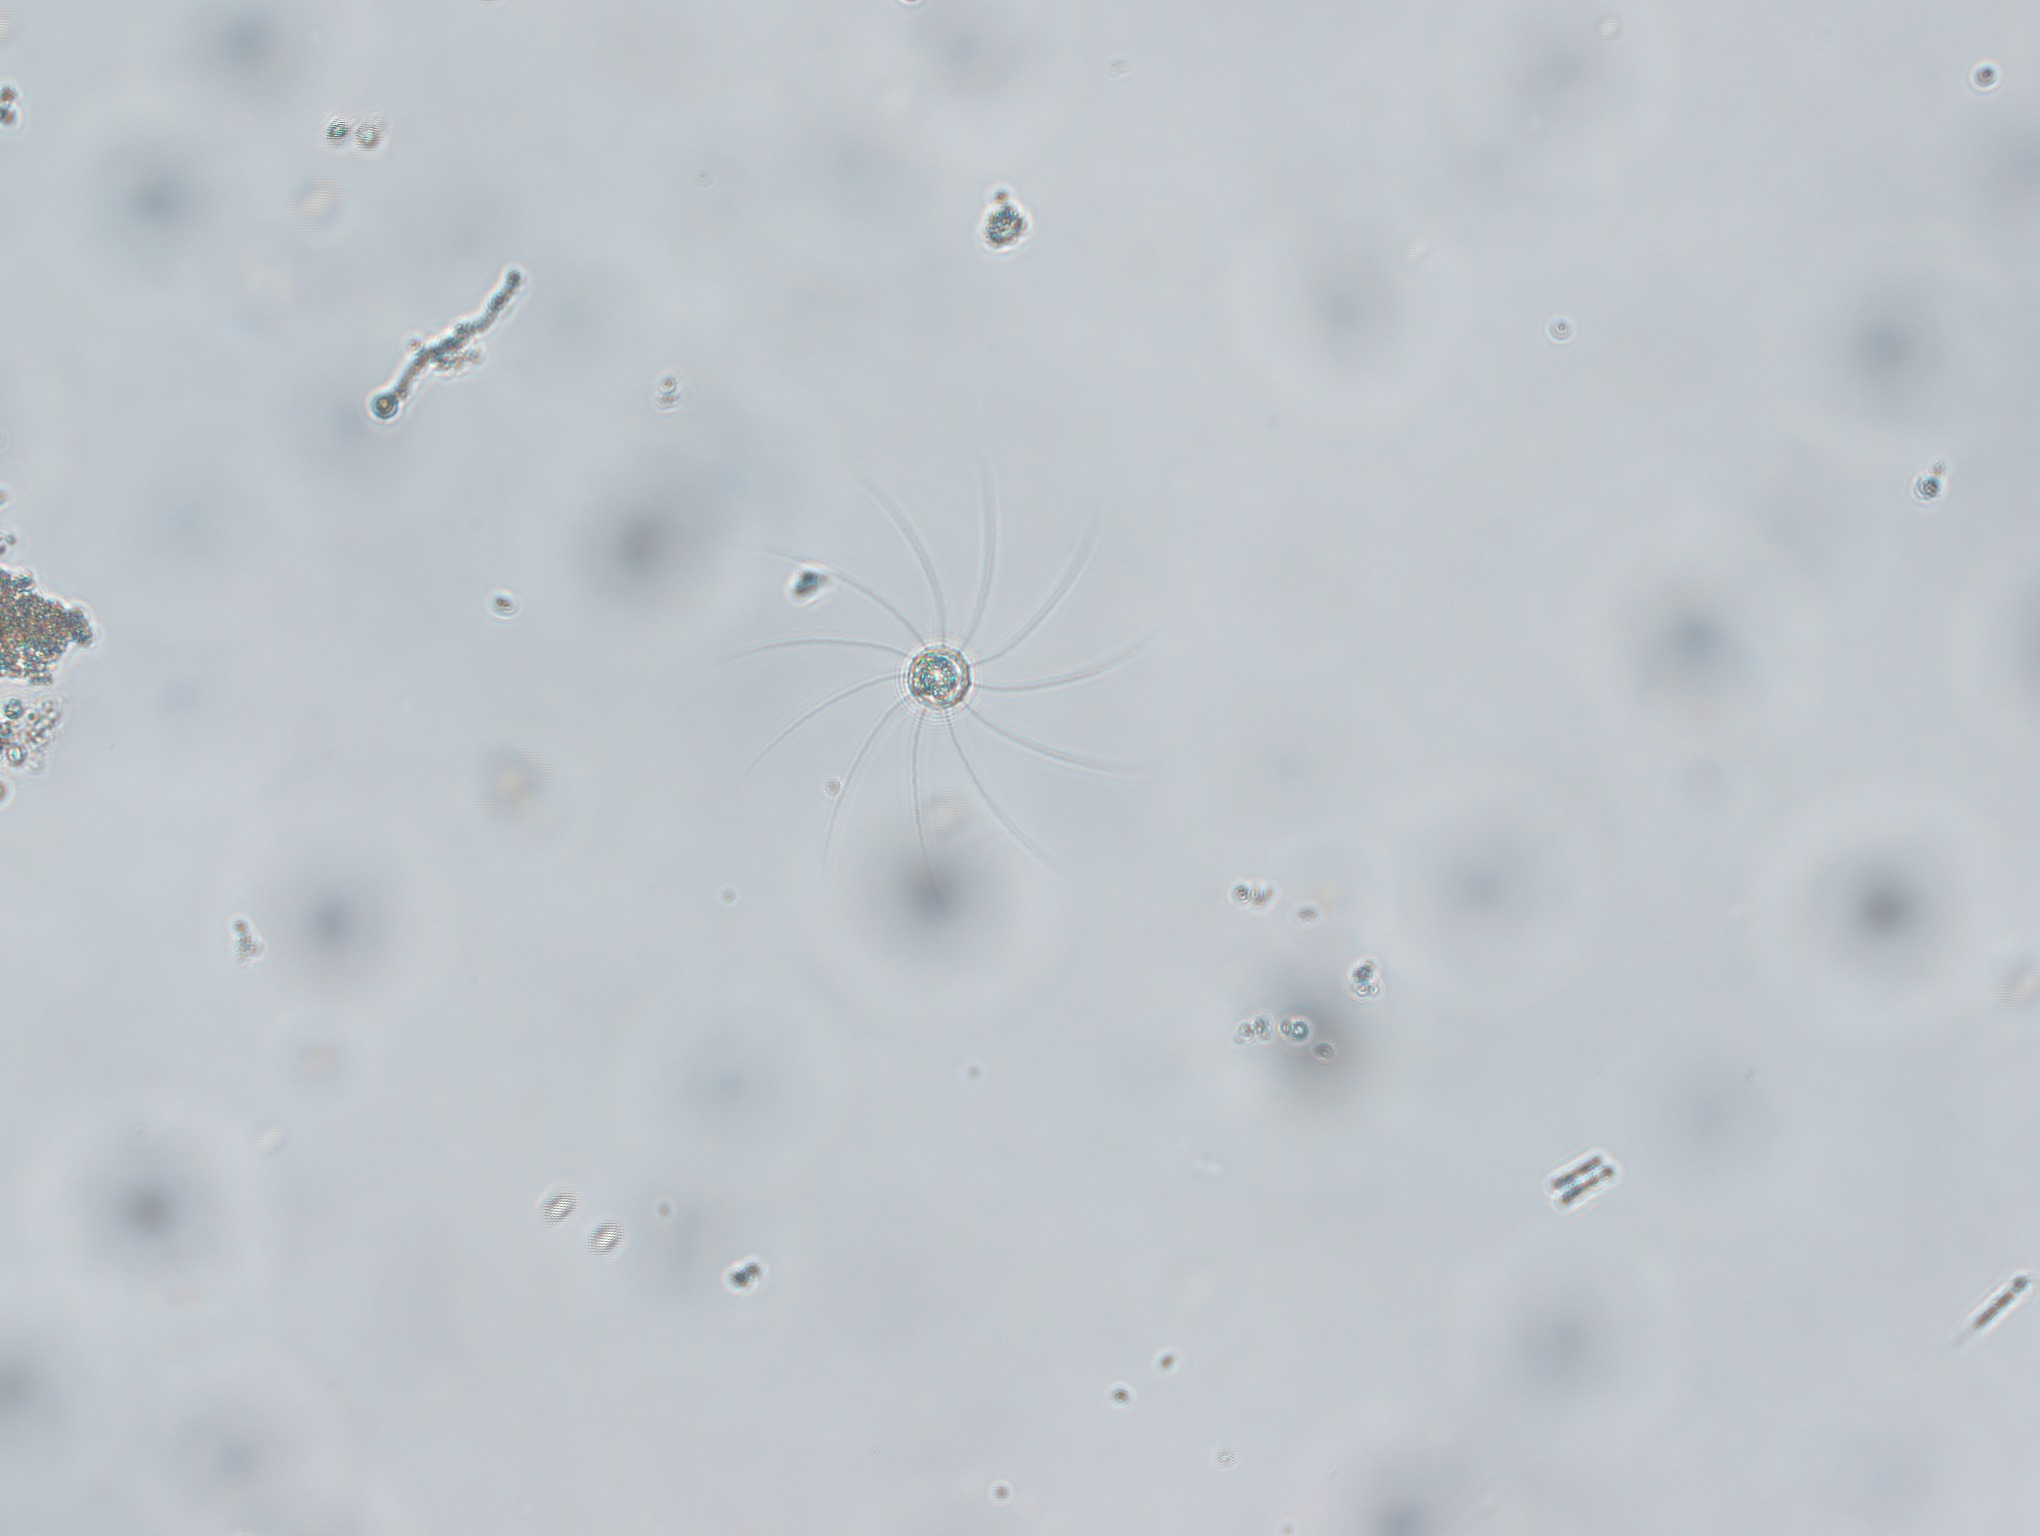bacteriastrum: (734, 484, 1166, 900)
